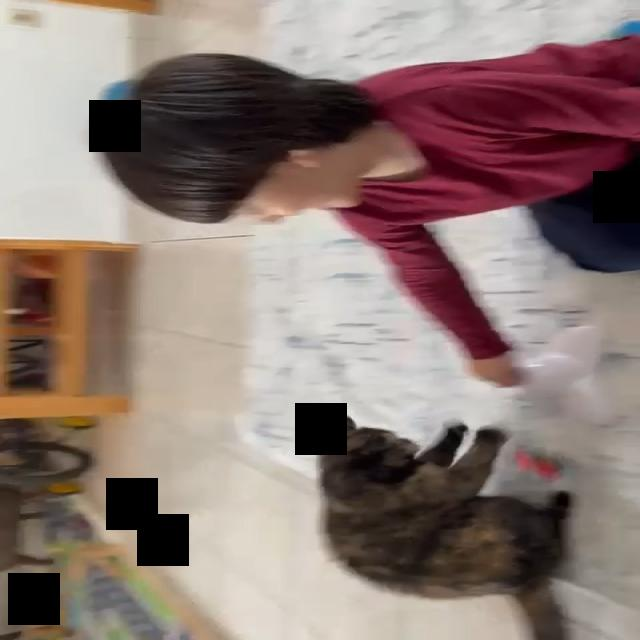authorized: (315, 415, 572, 639)
